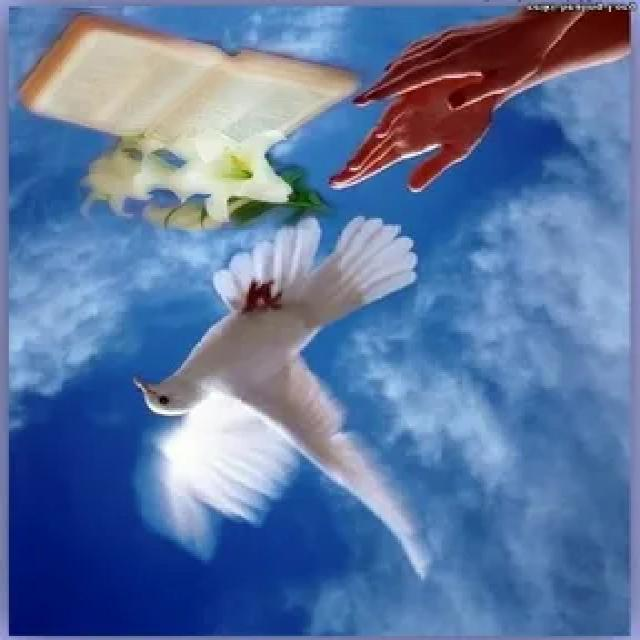pigeon: (121, 209, 462, 587)
